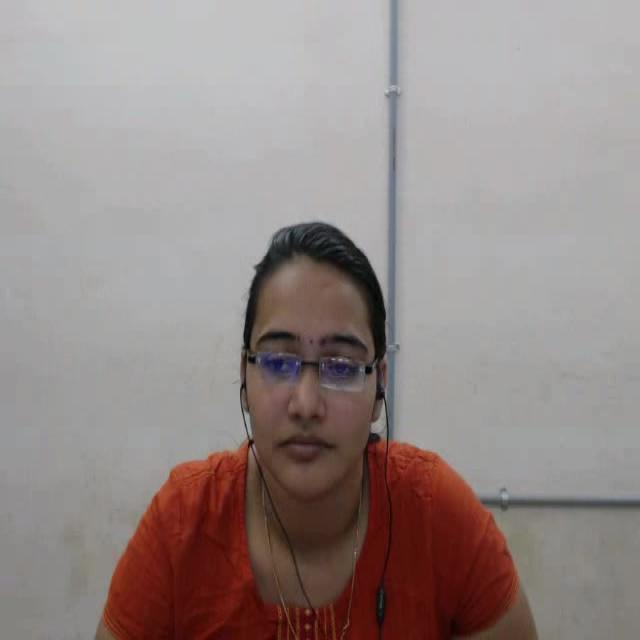Bored: (186, 165, 420, 567)
